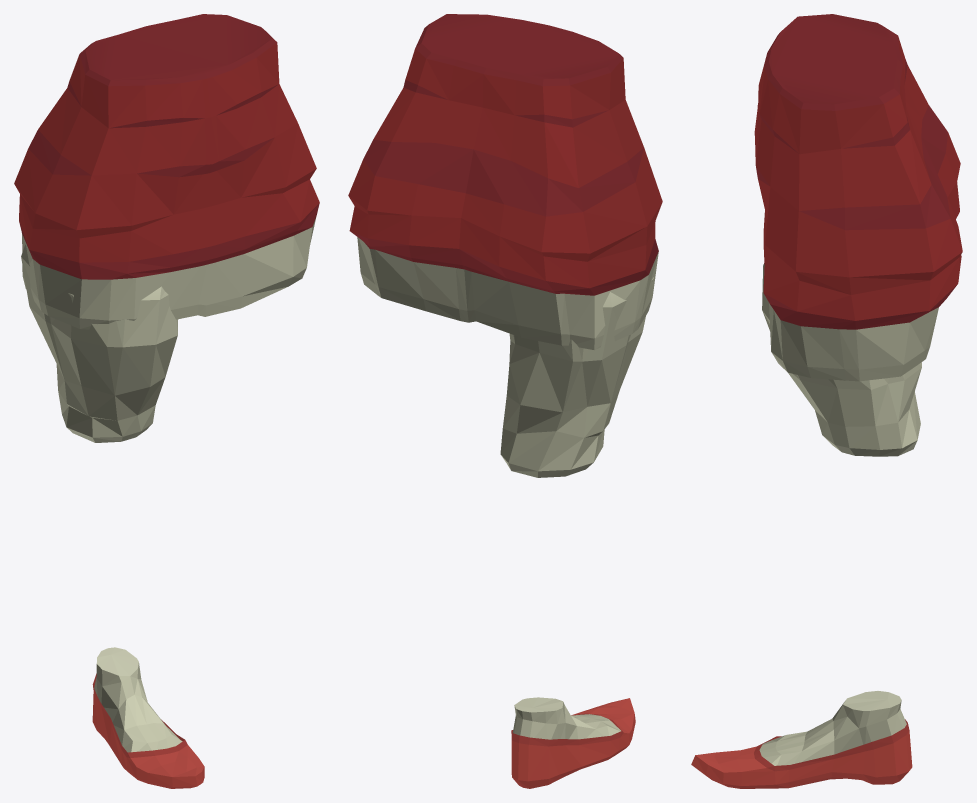
File: desertMerchantAssistantFemale.glb
3 renders of one model, left to right at view 1: azimuth 30°, elevation 25°; view 2: azimuth 150°, elevation 25°; view 3: azimuth 270°, elevation 25°, orthographic. The views are drawn at different scales.
Visible parts, largest first — view 1: desertMerchantAssistantBodyFemale, desertMerchantAssistantLegsFemale, desertMerchantAssistantShoesFemale; view 2: desertMerchantAssistantBodyFemale, desertMerchantAssistantLegsFemale, desertMerchantAssistantShoesFemale; view 3: desertMerchantAssistantBodyFemale, desertMerchantAssistantShoesFemale, desertMerchantAssistantLegsFemale.
Boxes of the visible parts, left/top/right/bottom form: desertMerchantAssistantBodyFemale: left=14, top=14, right=319, bottom=329; desertMerchantAssistantLegsFemale: left=21, top=244, right=177, bottom=442; desertMerchantAssistantShoesFemale: left=92, top=647, right=204, bottom=788; desertMerchantAssistantBodyFemale: left=348, top=14, right=662, bottom=349; desertMerchantAssistantLegsFemale: left=500, top=277, right=653, bottom=477; desertMerchantAssistantShoesFemale: left=511, top=697, right=635, bottom=788; desertMerchantAssistantBodyFemale: left=754, top=14, right=962, bottom=381; desertMerchantAssistantShoesFemale: left=691, top=691, right=912, bottom=788; desertMerchantAssistantLegsFemale: left=762, top=263, right=921, bottom=456.
Size of the model in its own units: 0.4709 by 1.14 by 0.3793.
